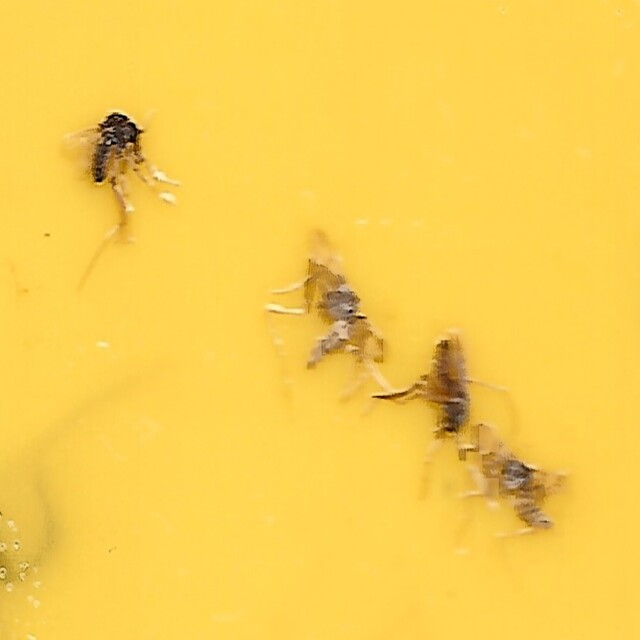Brachycera: (75, 100, 181, 225)
Nematocera: (294, 264, 385, 376), (403, 332, 473, 445), (485, 445, 565, 540)
